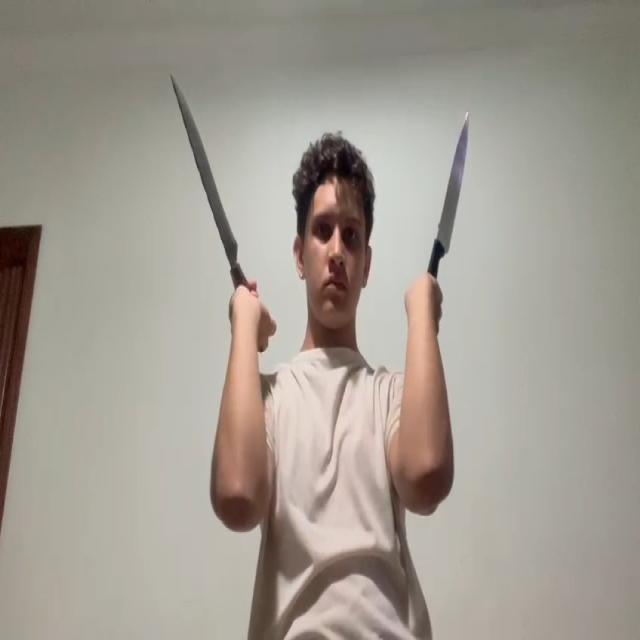knife: (170, 77, 240, 256), (438, 112, 470, 242)
